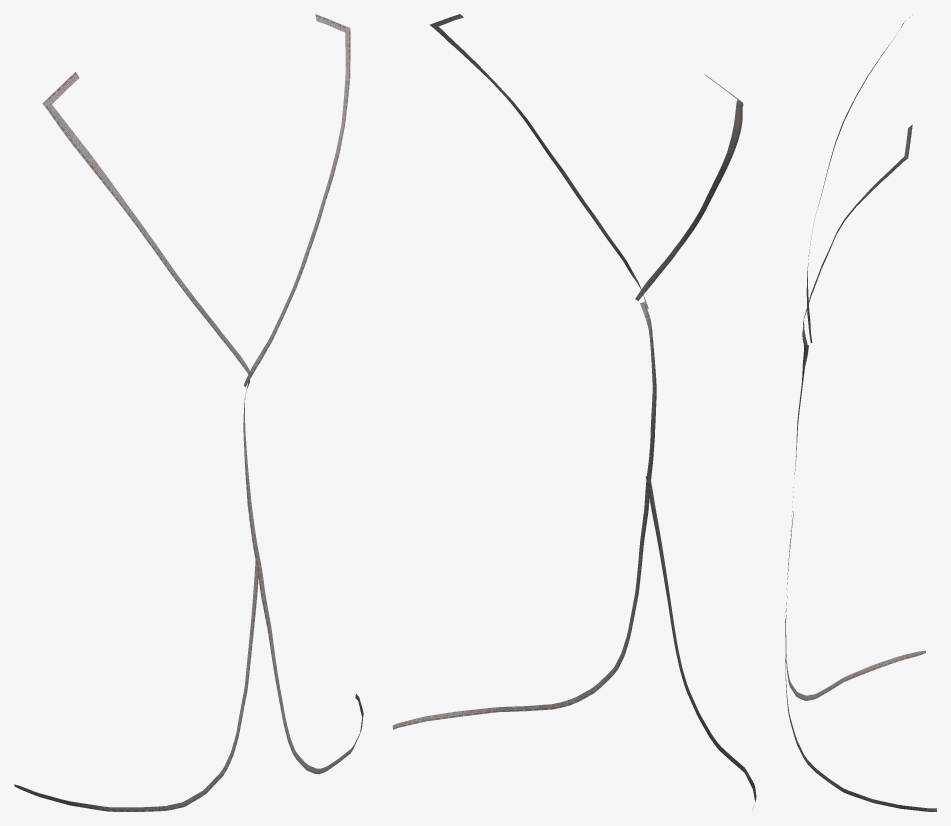
File: notch_double_button_AMF 2mm(1).glb
The picture shows the model from 3 angles, left to right: view 1: azimuth 30°, elevation 25°; view 2: azimuth 150°, elevation 25°; view 3: azimuth 270°, elevation 25°; orthographic projection. The views are drawn at different scales.
Visible parts, largest first — view 1: notch_double_button_AMF1; view 2: notch_double_button_AMF1; view 3: notch_double_button_AMF1.
Part boxes in pixels (x1,y1,x2,y2): notch_double_button_AMF1: (14,14,363,811); notch_double_button_AMF1: (392,14,756,809); notch_double_button_AMF1: (785,17,936,811).
Bounding box in the file's own units: 0.0474 × 0.0928 × 0.0191.
Materials: 1 (1 with a texture image).
